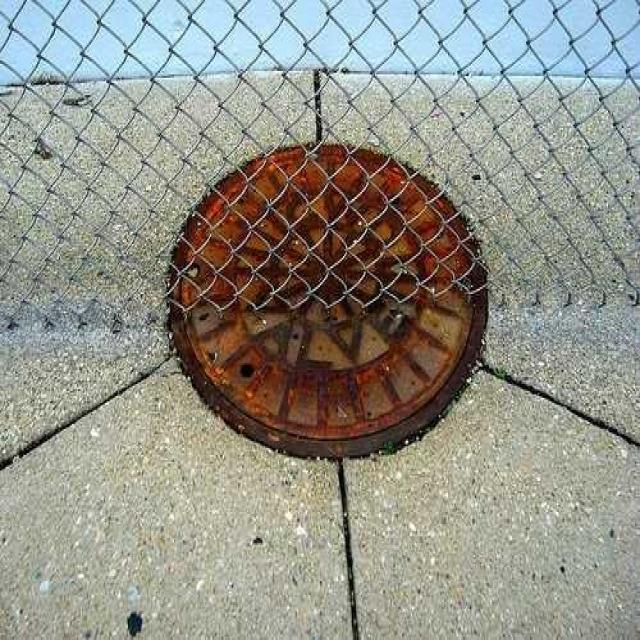manhole: (169, 144, 487, 457)
